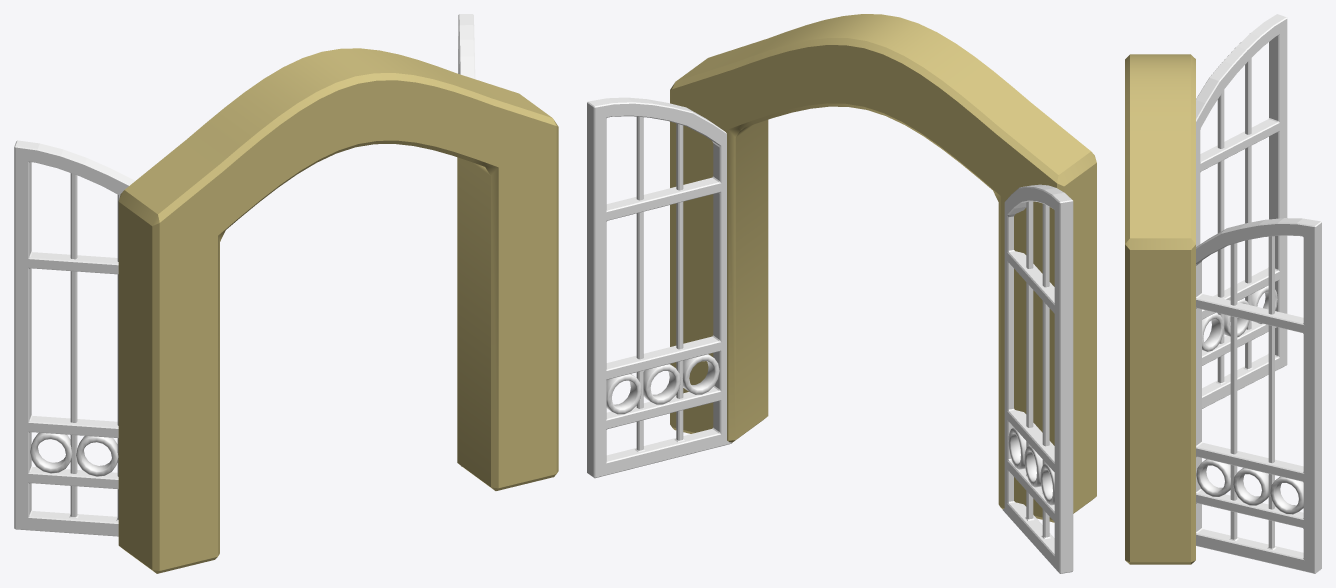
Rendered from Gate.fbx.
3 views of the same model, side by side, from view 1: azimuth 30°, elevation 25°; view 2: azimuth 150°, elevation 25°; view 3: azimuth 270°, elevation 25° (orthographic). The views are drawn at different scales.
Parts seen in each view (by area): view 1: Gate.001, Gate_door.003, Gate_door.002; view 2: Gate.001, Gate_door.002, Gate_door.003; view 3: Gate.001, Gate_door.002, Gate_door.003.
Part boxes in pixels (left/top/right/bottom): Gate.001: left=118, top=48, right=558, bottom=573; Gate_door.003: left=14, top=140, right=134, bottom=536; Gate_door.002: left=458, top=14, right=475, bottom=466; Gate.001: left=670, top=14, right=1096, bottom=522; Gate_door.002: left=587, top=97, right=731, bottom=478; Gate_door.003: left=1002, top=184, right=1073, bottom=573; Gate.001: left=1125, top=54, right=1195, bottom=564; Gate_door.002: left=1196, top=218, right=1321, bottom=573; Gate_door.003: left=1196, top=14, right=1287, bottom=408.
Size of the model in its own units: 14.16 by 12.67 by 5.54.
